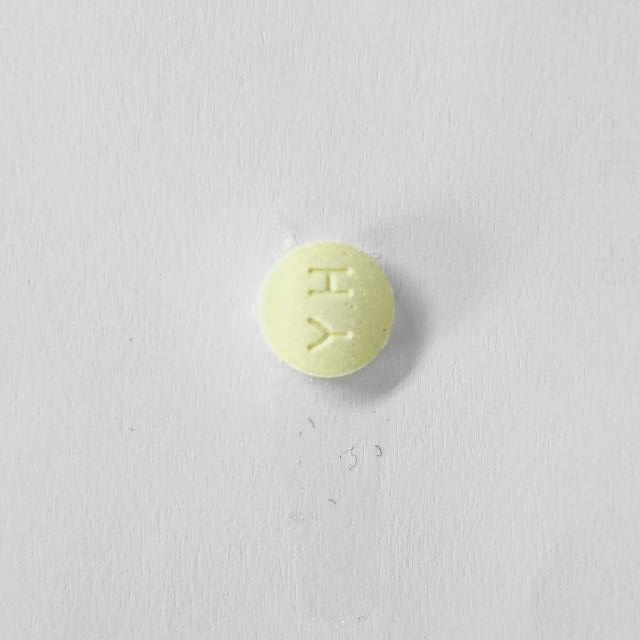pill: (249, 237, 403, 388)
